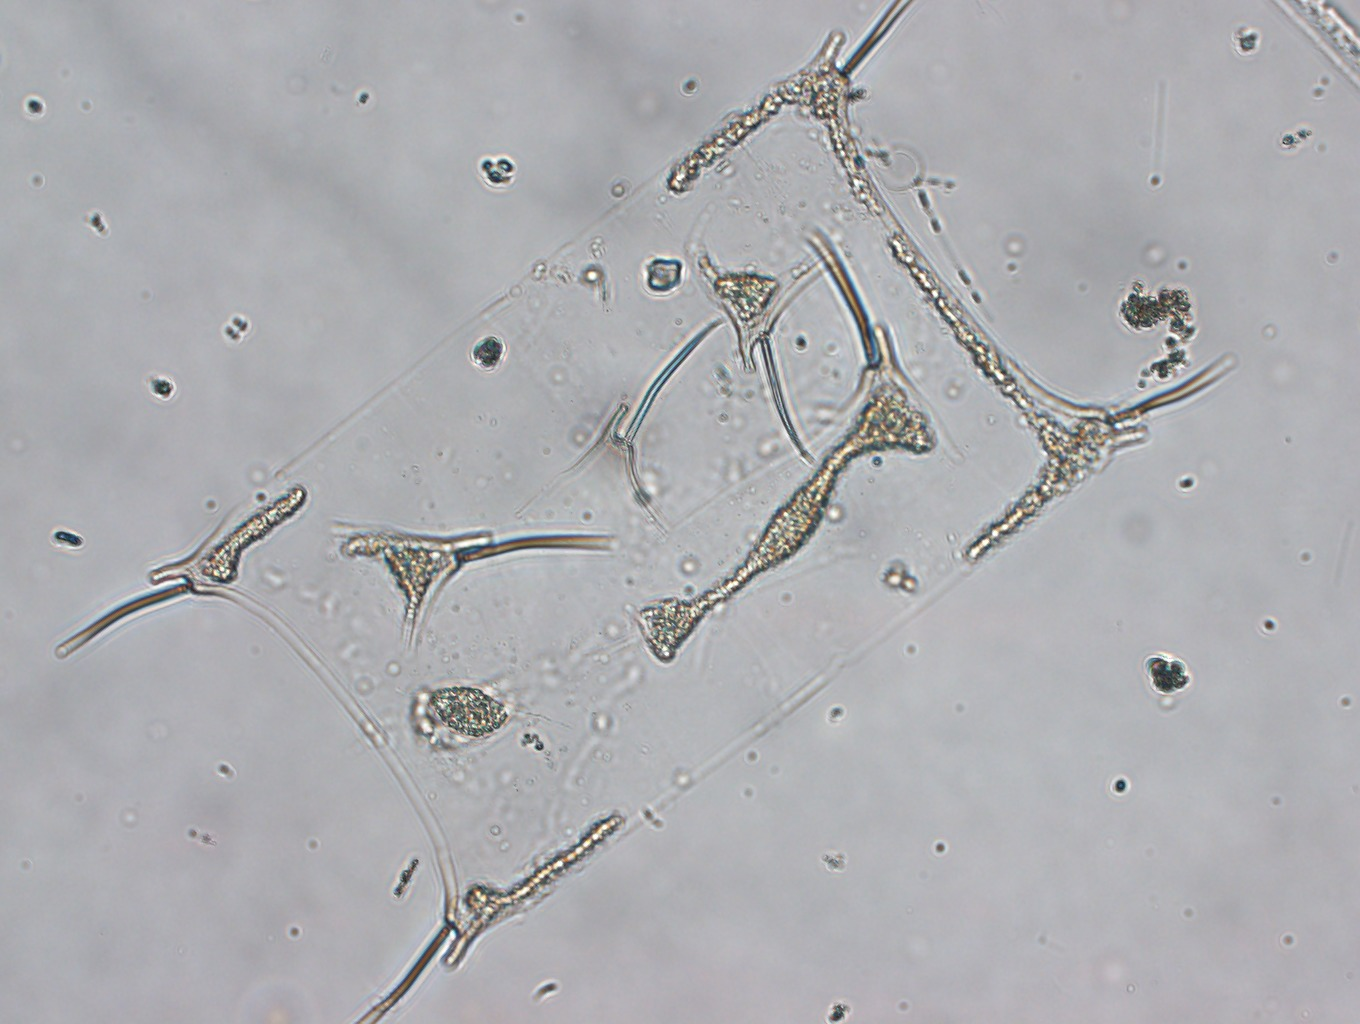biddulphia: (43, 3, 1247, 1024)
